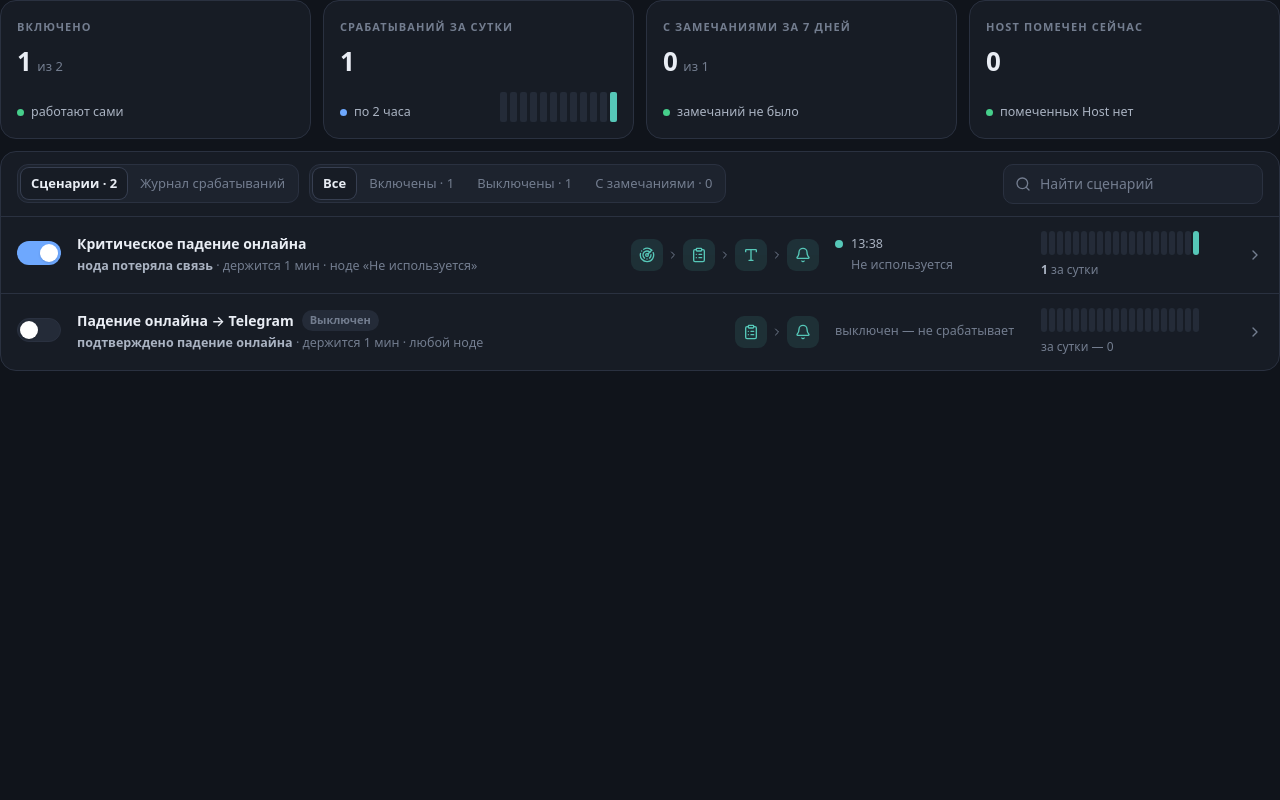
Test: Сценарии: плитки, строки, журнал и окно (витрина scenarios-2026-10b, страница A и окно A) › Host изменён и ещё не вернули — плашка «Host ещё помечен», в шагах «Вернуть Host — ещё помечен»
Click the radio button labelled "Журнал срабатываний". click: (213, 184)
box: [130,168,295,199]
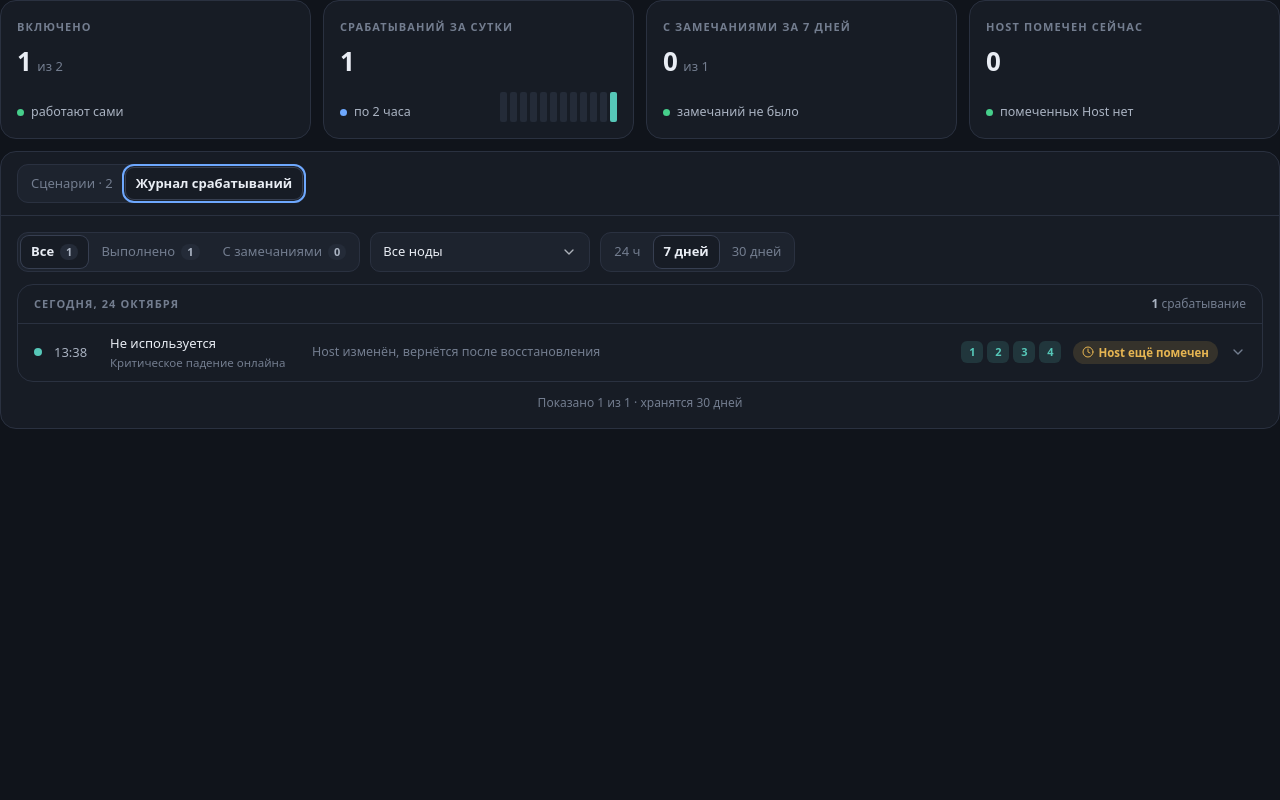
Expected: the button shows "Host ещё помечен"
Click the button. click: (71, 352)
box: [18,324,1262,381]
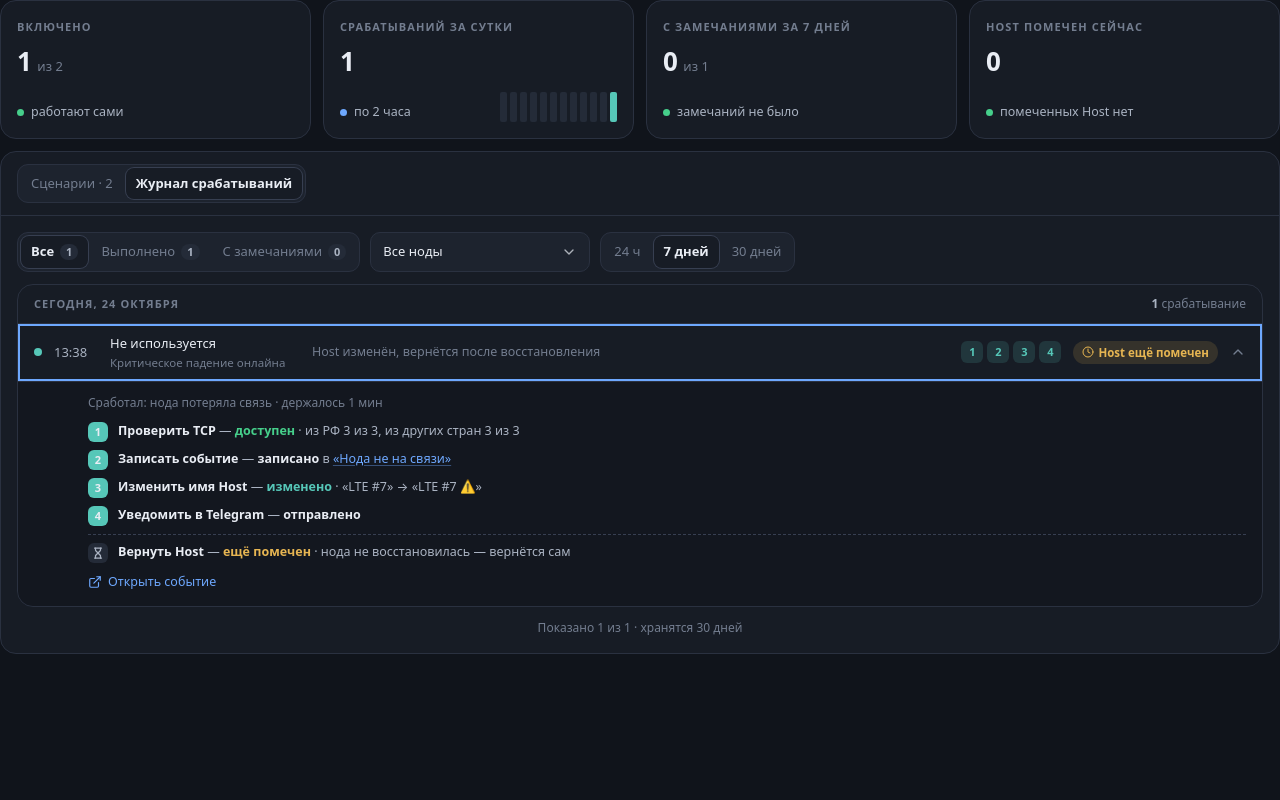
Expected: the text "нода не восстановилась — вернётся сам" is shown, [311,543,571,560]
